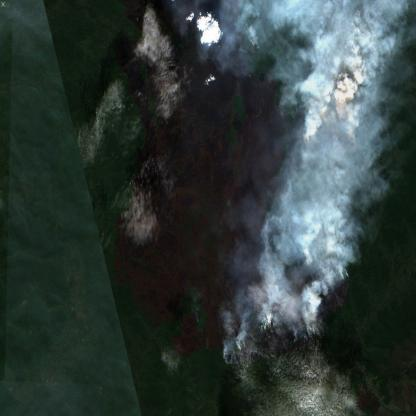fire: (219, 248, 353, 372), (293, 83, 367, 178)
